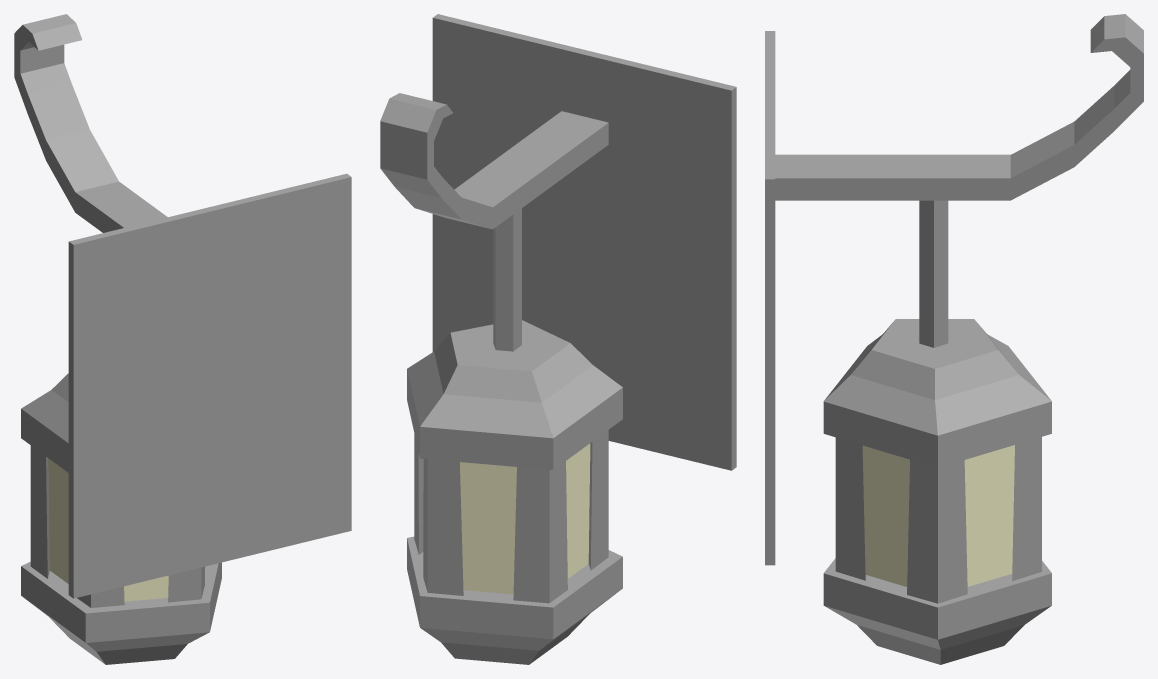
The model's file is Lantern_low.fbx.
3 renders of one model, left to right at view 1: azimuth 30°, elevation 25°; view 2: azimuth 150°, elevation 25°; view 3: azimuth 270°, elevation 25°, orthographic. The views are drawn at different scales.
Visible parts, largest first — view 1: Lantern_low; view 2: Lantern_low; view 3: Lantern_low.
Part boxes in pixels (<box>): Lantern_low: <box>14,14,351,664</box>; Lantern_low: <box>380,14,736,664</box>; Lantern_low: <box>765,14,1143,664</box>.
Size of the model in its own units: 322 by 620 by 348.
